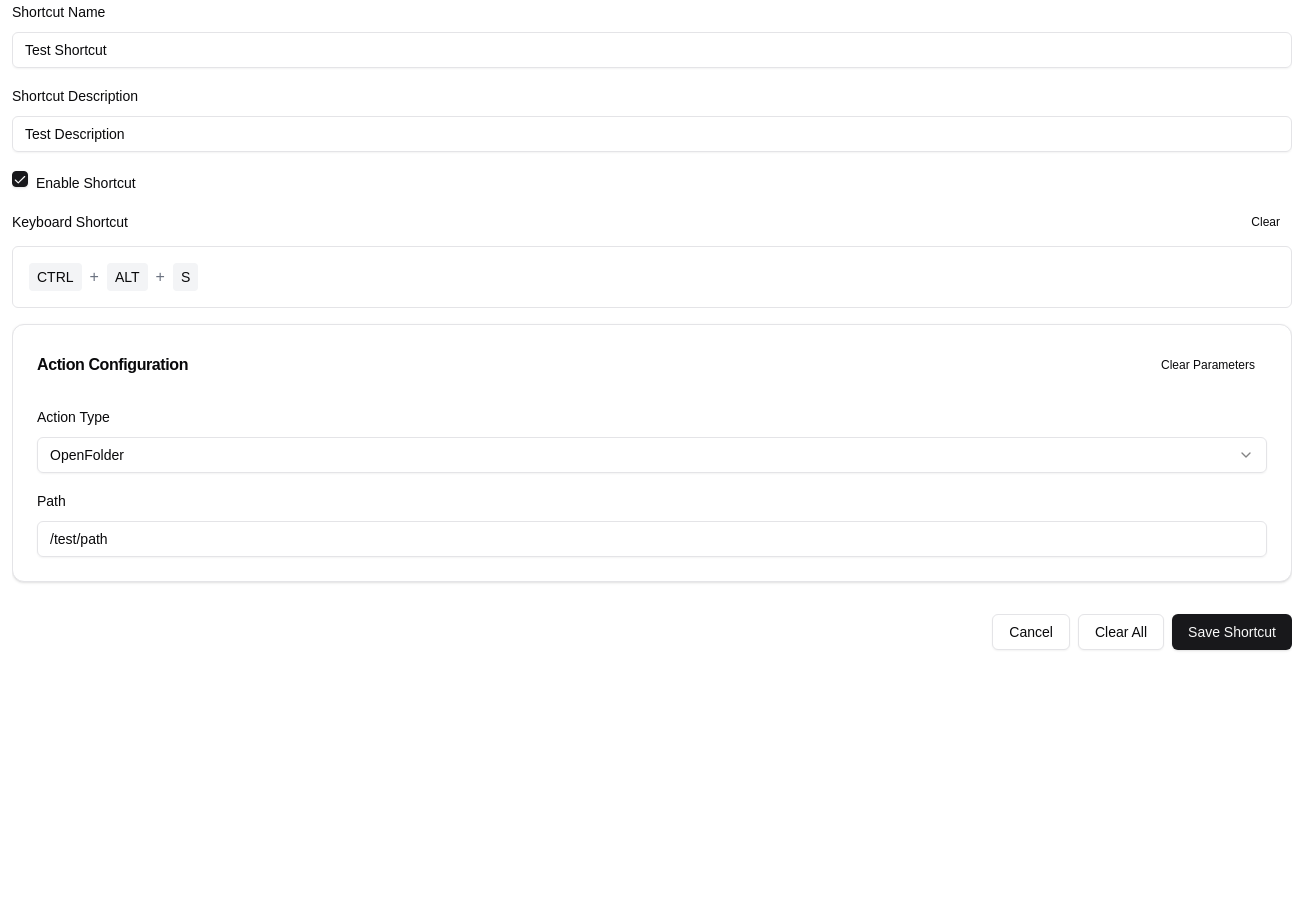
it: ShortcutForm Component › clears shortcut when clear button is clicked
Click the button "Clear" at coordinates (1266, 222), box x1=1239 y1=206 x2=1292 y2=238
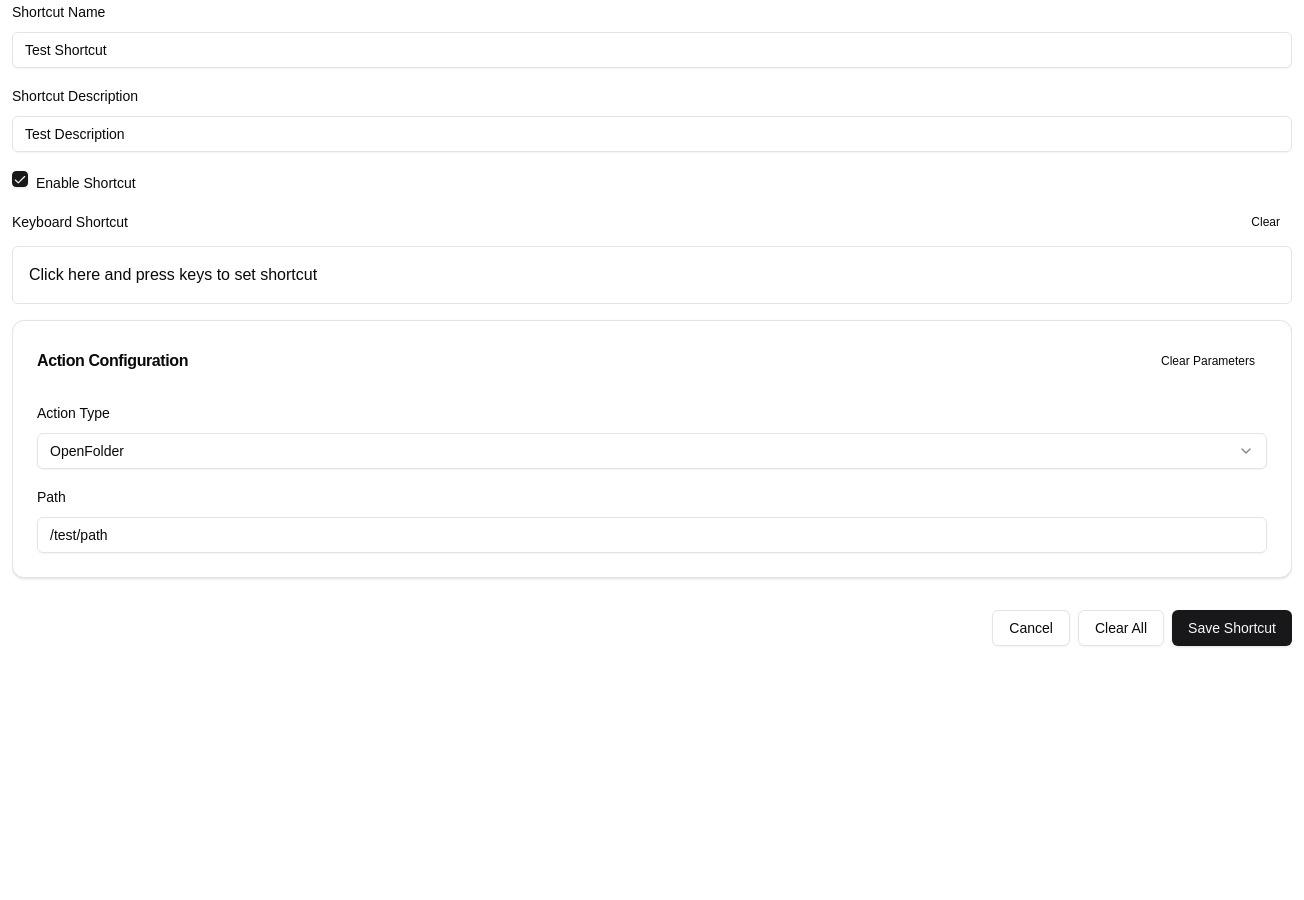
Now the text "Click here and press keys to set shortcut" is shown, box x1=12 y1=246 x2=1292 y2=304
